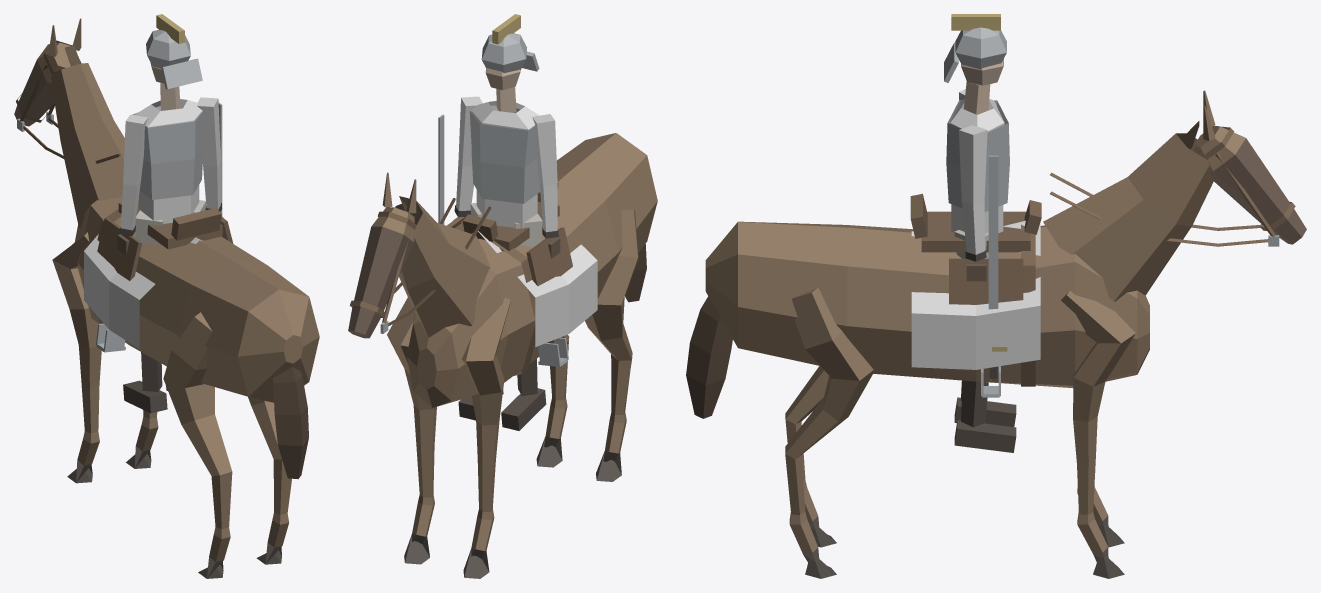
Rendered from cavalry_hx_em_cuirassier_lod1.glb.
3 renders of one model, left to right at view 1: azimuth 30°, elevation 25°; view 2: azimuth 150°, elevation 25°; view 3: azimuth 270°, elevation 25°, orthographic. The views are drawn at different scales.
Parts seen in each view (by area): view 1: hx_em_cuirassier_lod1; view 2: hx_em_cuirassier_lod1; view 3: hx_em_cuirassier_lod1.
Part boxes in pixels (bbox=[...]): hx_em_cuirassier_lod1: bbox=[14, 14, 319, 578]; hx_em_cuirassier_lod1: bbox=[348, 14, 657, 578]; hx_em_cuirassier_lod1: bbox=[686, 14, 1306, 578].
Bounding box in the file's own units: 0.6602 × 2.41 × 2.5.
